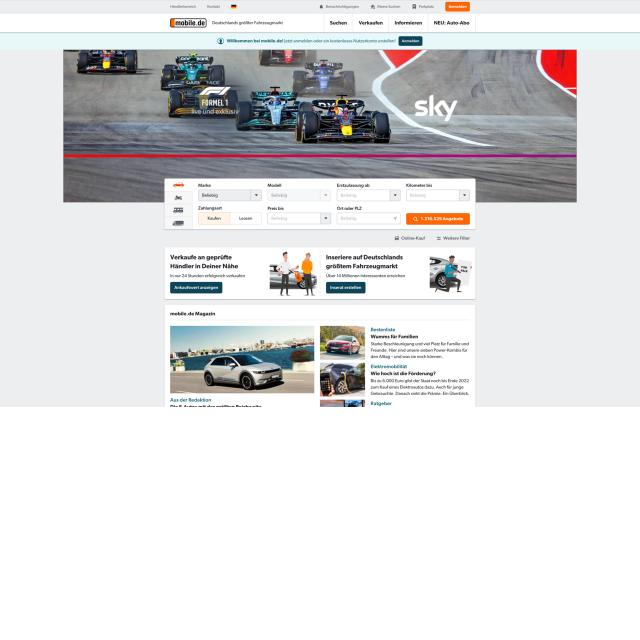logo: (170, 18, 207, 28)
navigation: (324, 13, 475, 32), (319, 4, 435, 9), (169, 3, 239, 11)
